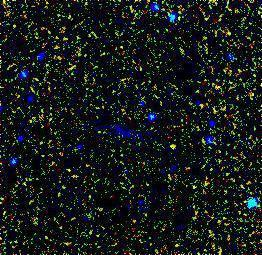star: (157, 135, 187, 165)
